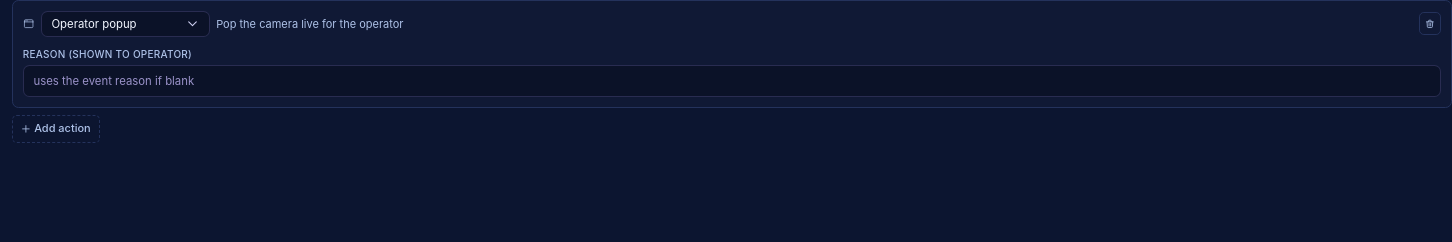
Scenario: the wall-display action › is offered at all
What coordinates should you click on to do the following:
click the button "Operator popup"
I would click on:
 (125, 24)
Its box is [41, 11, 210, 37].
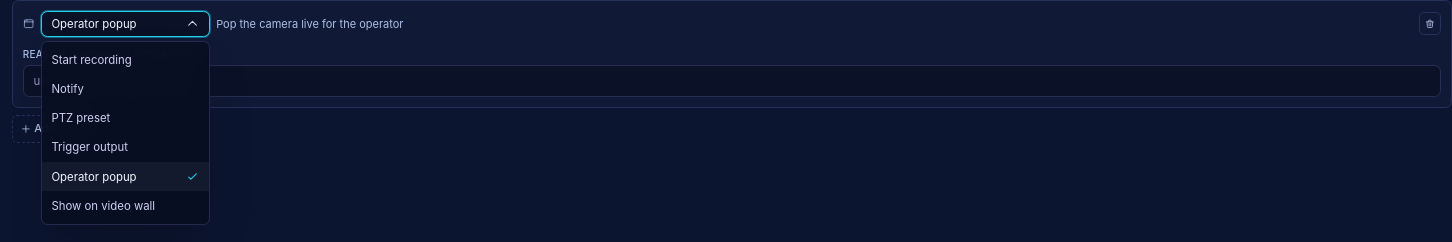
expect the option "Show on video wall" is shown: met, box [42, 191, 209, 221]
